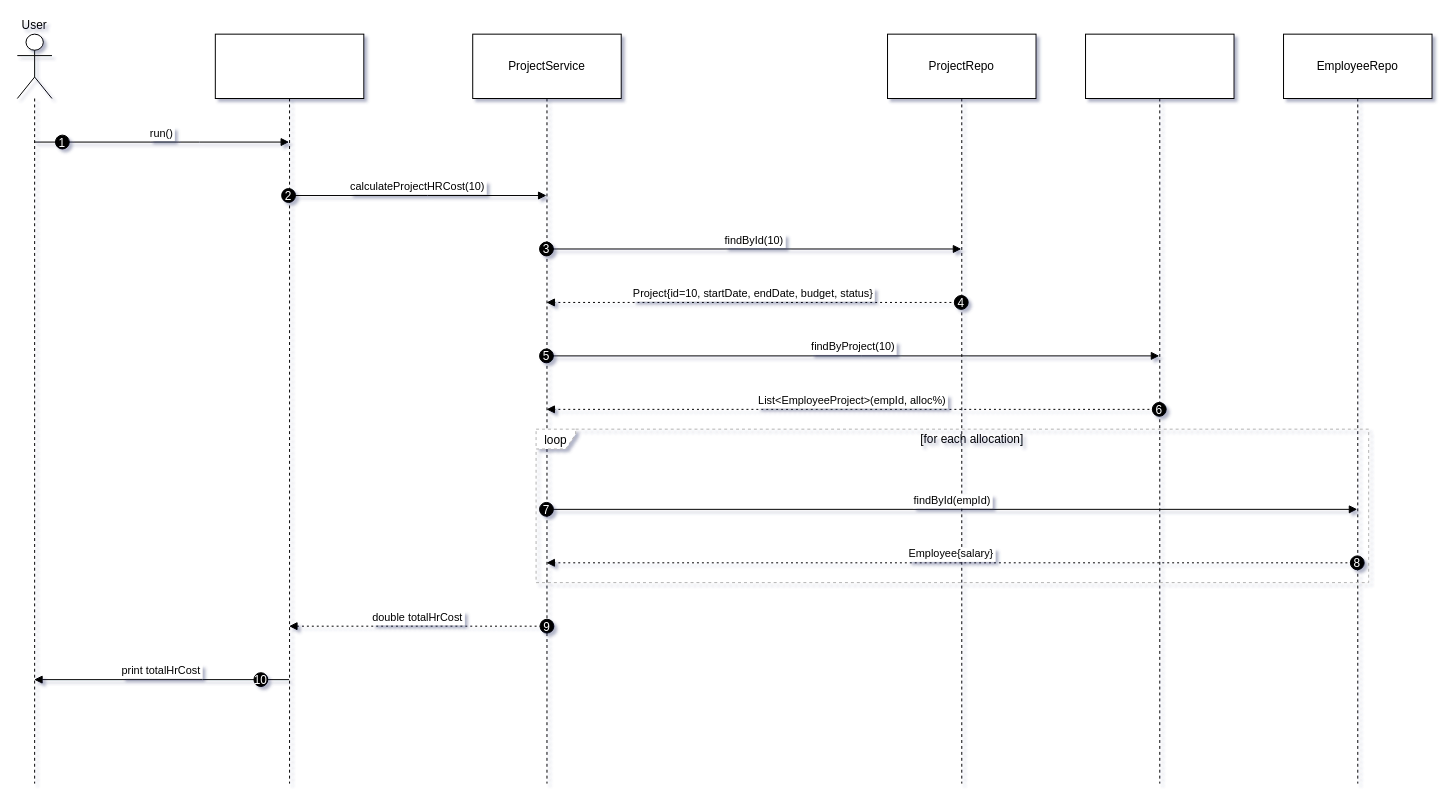
This 1455x807 diagram has some shape labels left out. Here are the shapes that lost their labels. From the top down, the box of each, then its label:
(214, 33, 364, 784): MainApp
(1085, 33, 1234, 784): AllocationsRepo
